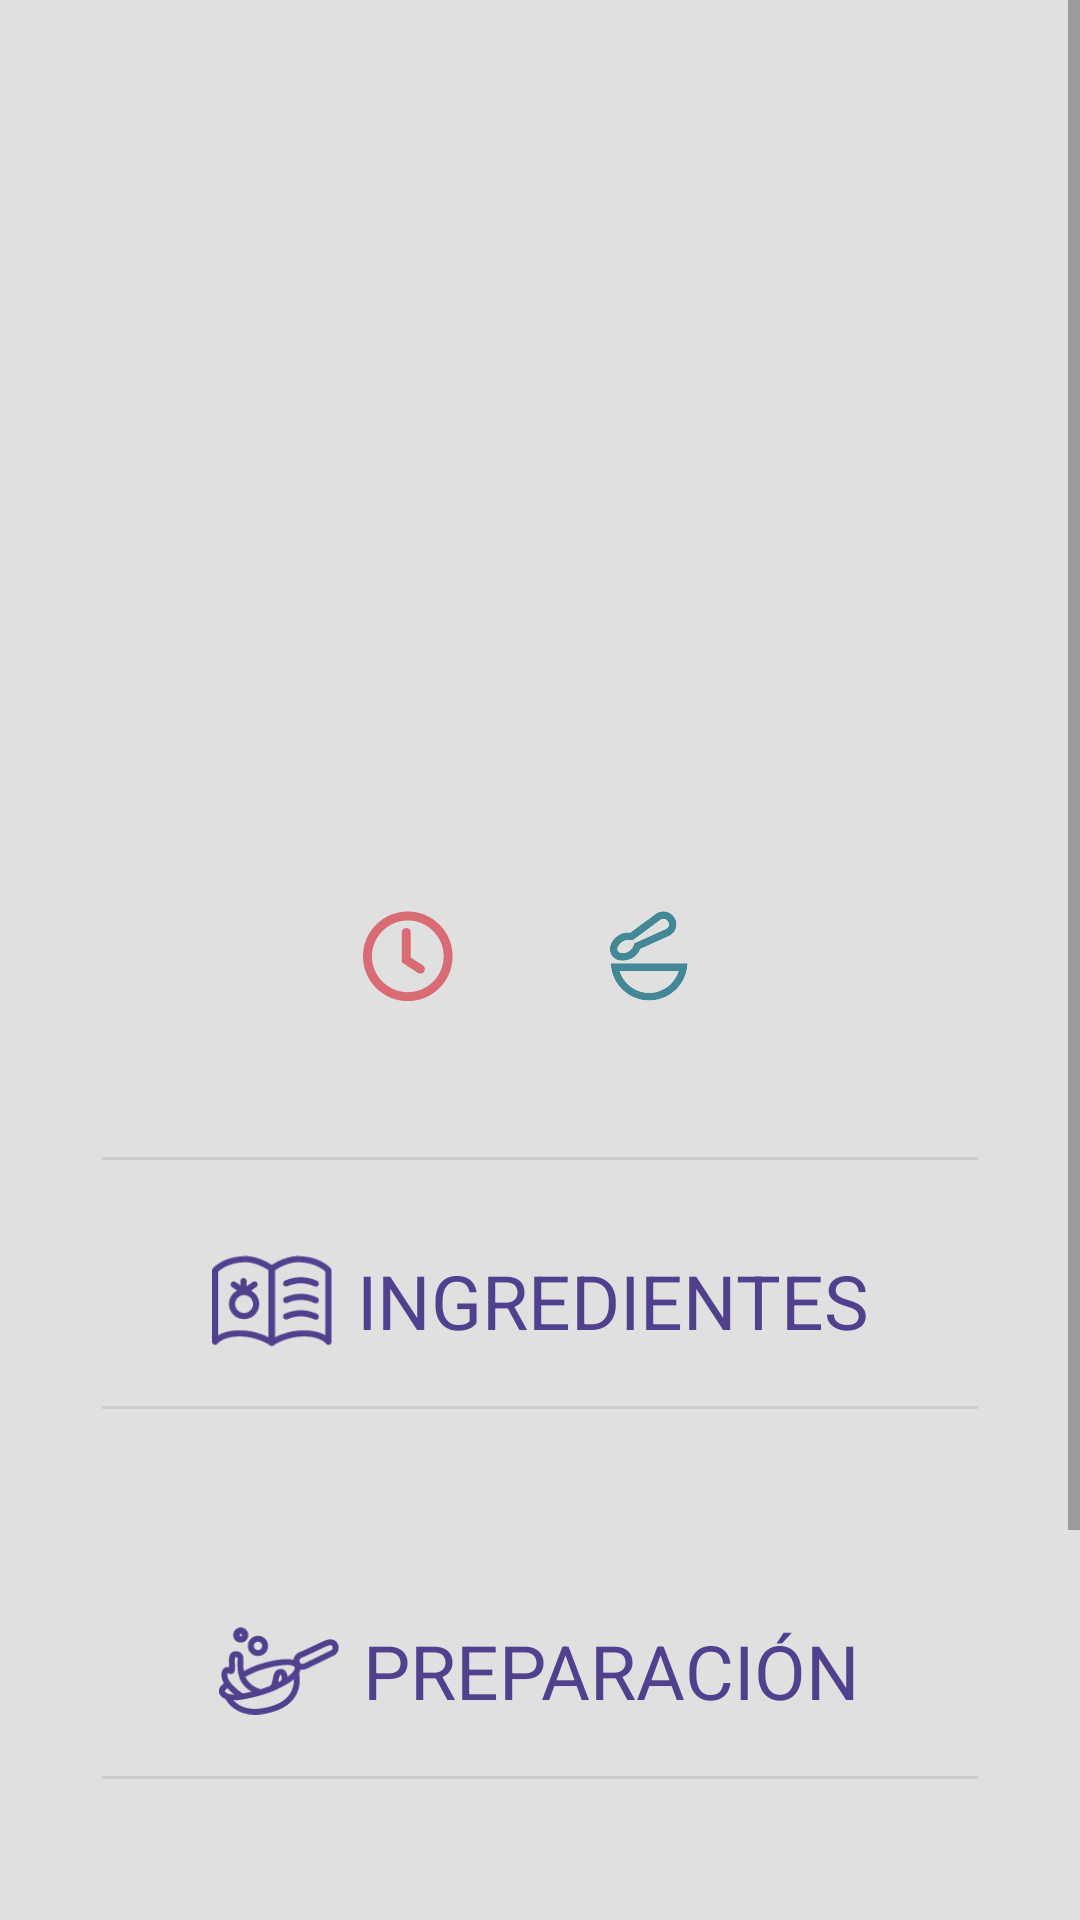

Icons on this 1080 × 1920 Android screen, each with the point to tap as (x=x, y=y):
preparacion: (x=279, y=1671)
racion: (x=649, y=956)
tiempo: (x=408, y=956)
